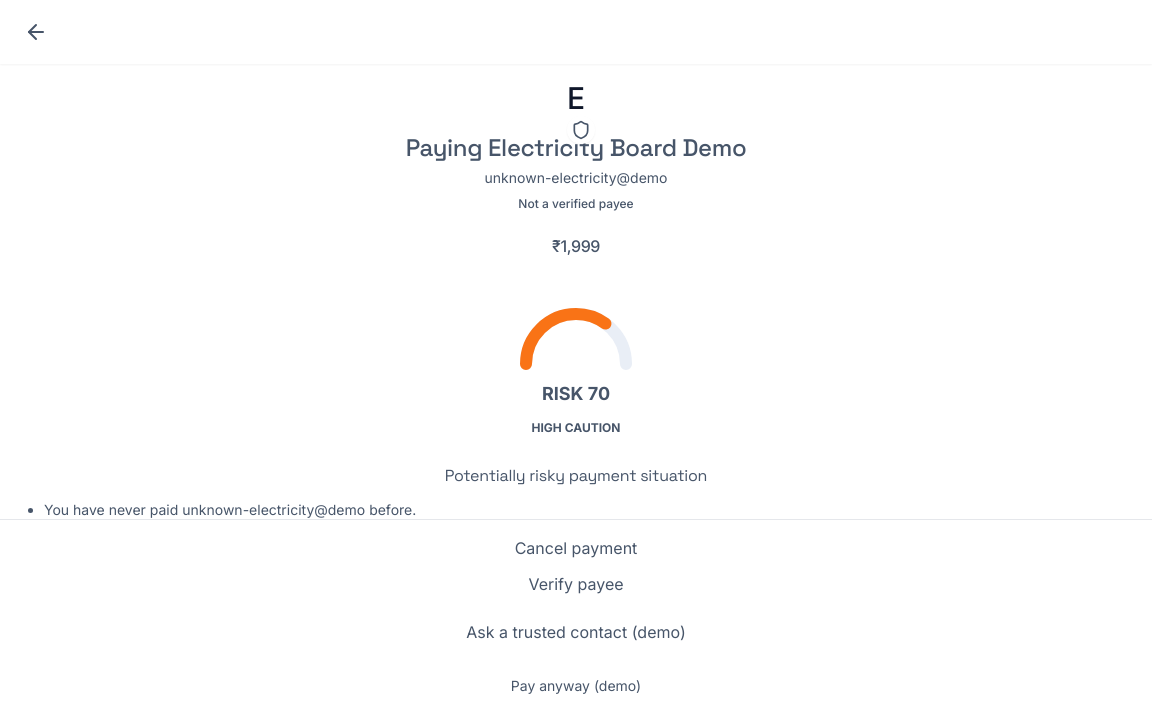
Test: Pay Screen › renders UTIL_QR draft correctly
Expected: the text "HIGH CAUTION" is shown, left=532, top=420, right=620, bottom=435
Expected: the heading "Potentially risky payment situation" is shown, left=445, top=465, right=707, bottom=486
Click the button "Cancel payment": (576, 548) left=16, top=536, right=1136, bottom=560
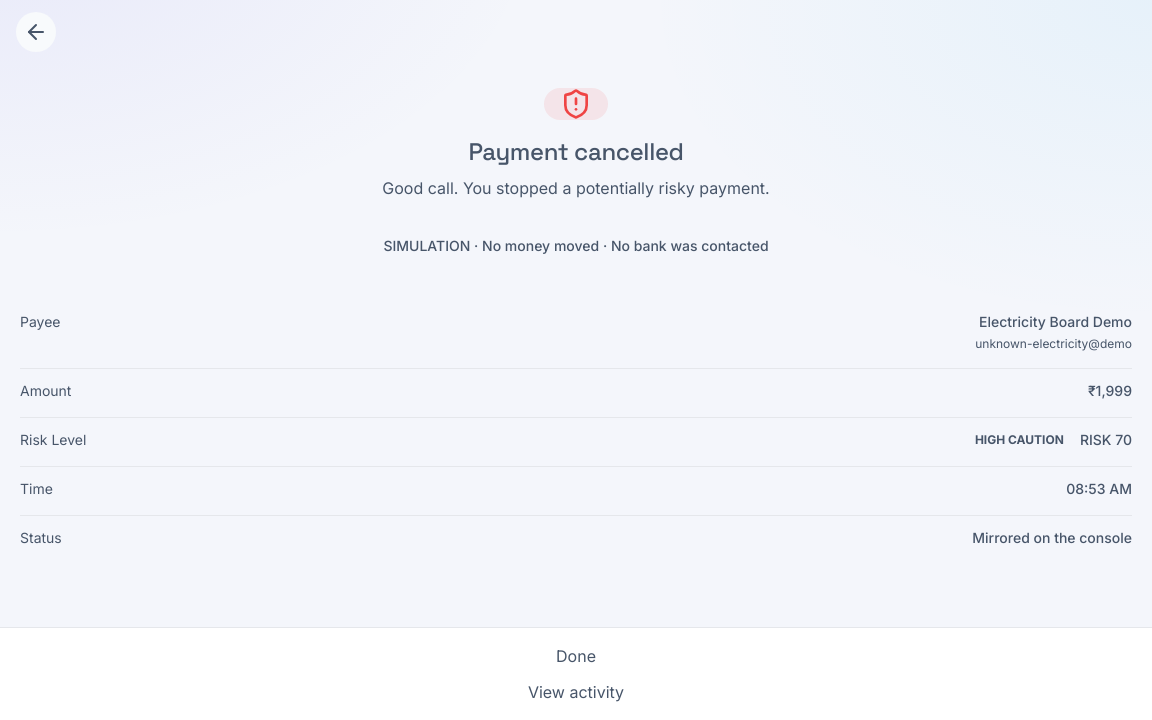
Now the heading "Payment cancelled" is shown, box left=468, top=136, right=684, bottom=167
